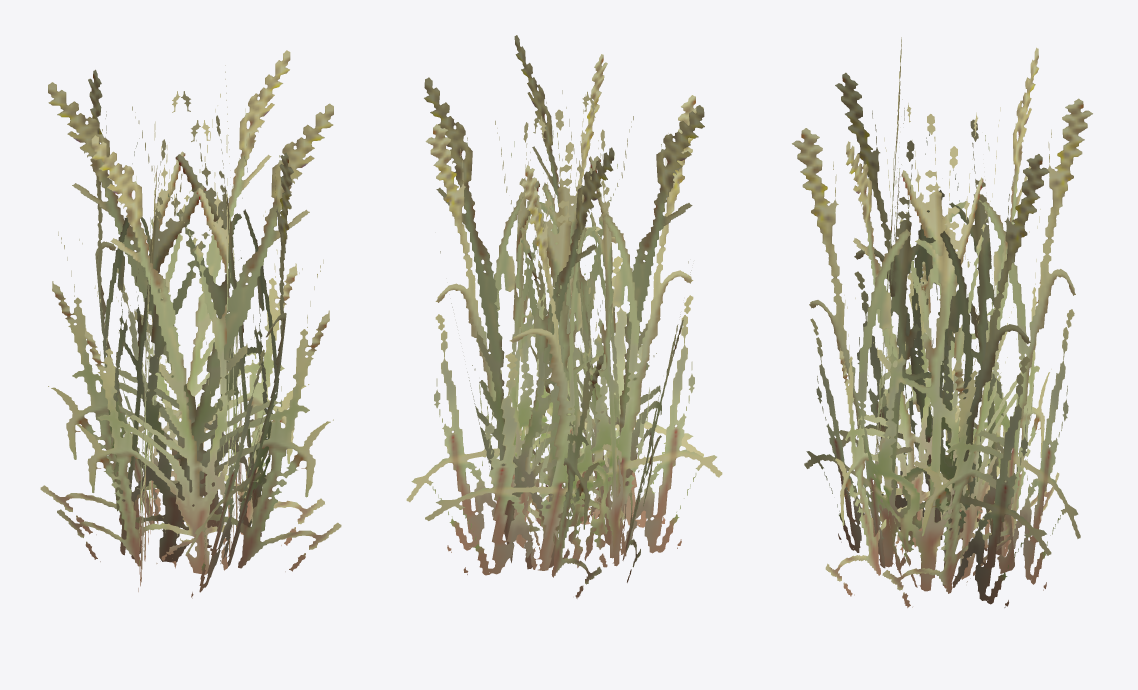
Rendered from grass_wispy.glb.
The picture shows the model from 3 angles, left to right: view 1: azimuth 30°, elevation 25°; view 2: azimuth 150°, elevation 25°; view 3: azimuth 270°, elevation 25°; orthographic projection. The views are drawn at different scales.
Parts seen in each view (by area): view 1: grass_wispy; view 2: grass_wispy; view 3: grass_wispy.
Part boxes in pixels (x1,y1,x2,y2): grass_wispy: [40, 50, 341, 598]; grass_wispy: [406, 35, 722, 598]; grass_wispy: [792, 37, 1092, 607].
Bounding box in the file's own units: 2.76 × 4.63 × 2.84.
Materials: 1 (1 with a texture image).
